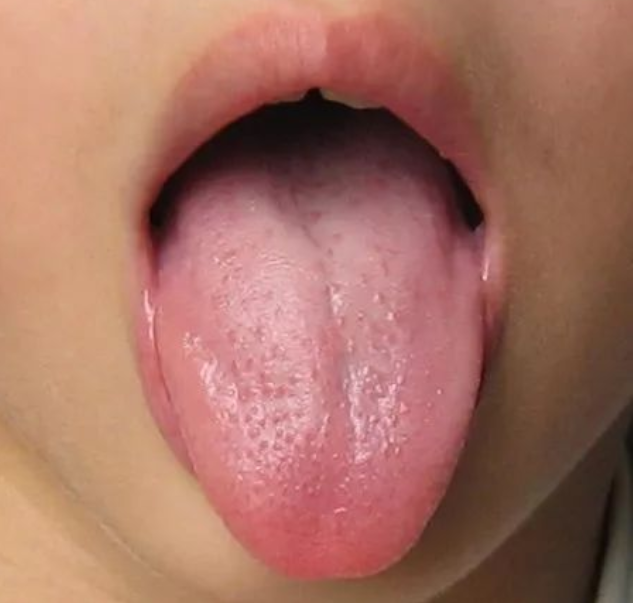hongshe: (158, 129, 482, 578)
